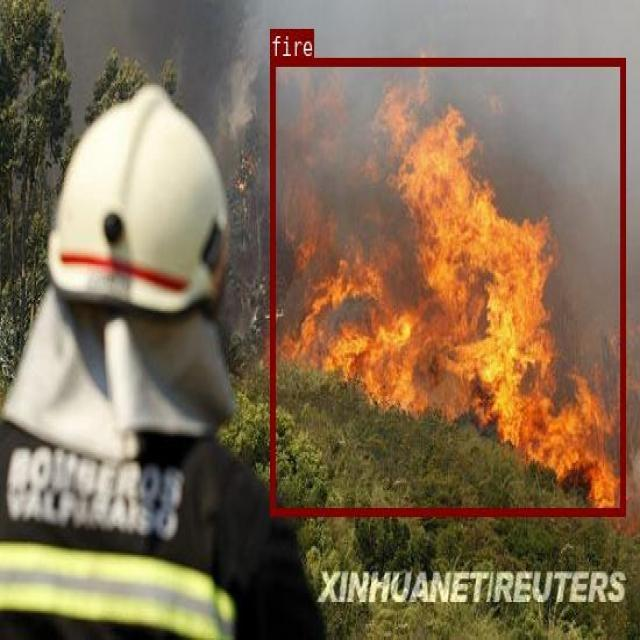fire: (270, 57, 625, 515)
